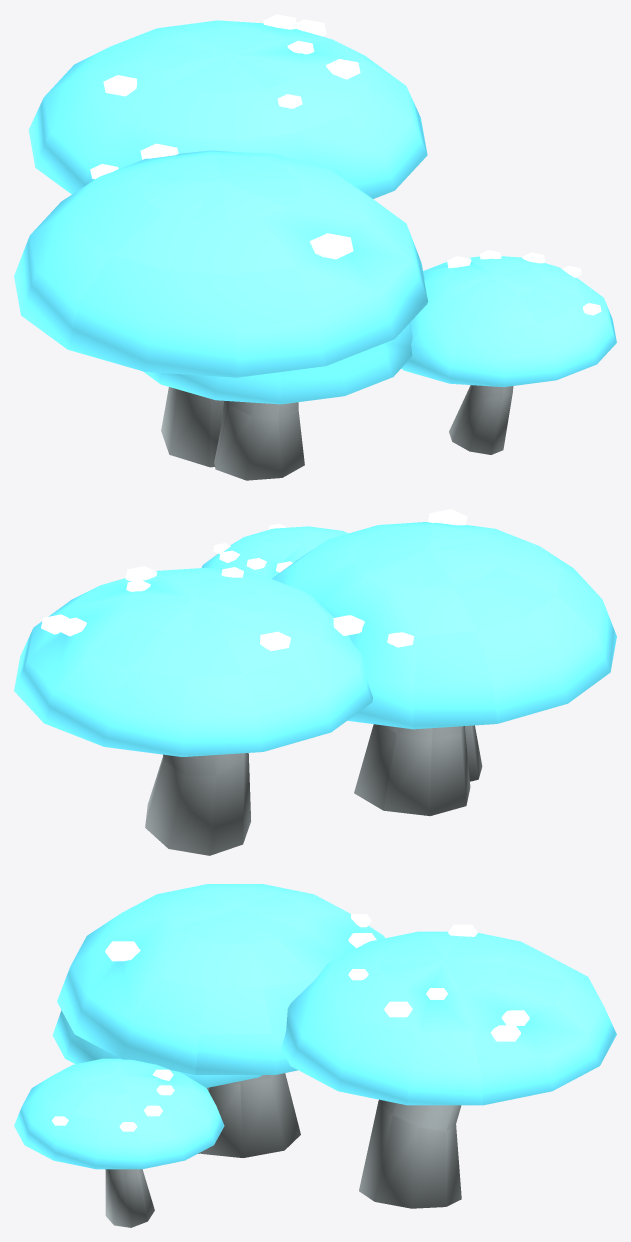
File: obj_deco_hongos.glb
The picture shows the model from 3 angles, top to bottom: view 1: azimuth 30°, elevation 25°; view 2: azimuth 150°, elevation 25°; view 3: azimuth 270°, elevation 25°; orthographic projection. The views are drawn at different scales.
Parts seen in each view (by area): view 1: propforge-libre-deco_hongos; view 2: propforge-libre-deco_hongos; view 3: propforge-libre-deco_hongos.
Part boxes in pixels (x1,y1,x2,y2): propforge-libre-deco_hongos: [14, 14, 616, 480]; propforge-libre-deco_hongos: [14, 509, 616, 855]; propforge-libre-deco_hongos: [14, 884, 616, 1227].
Bounding box in the file's own units: 0.4906 × 0.2666 × 0.6185.
